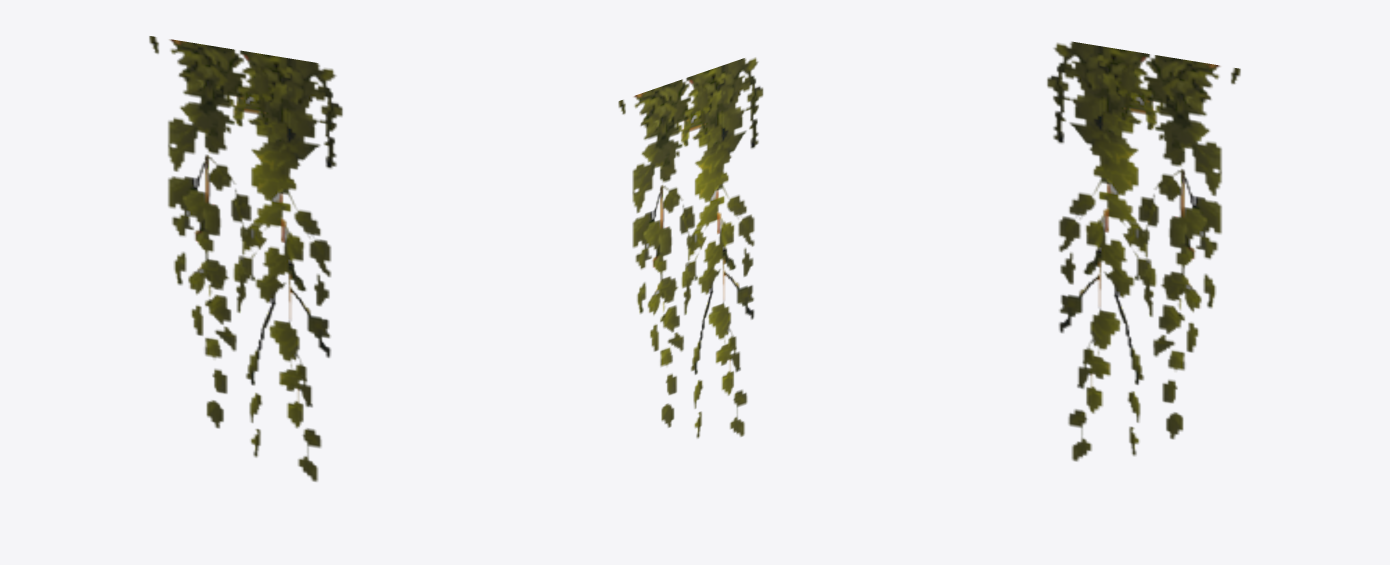
Rendered from GH_1_Ivy_4.gltf.
3 renders of one model, left to right at view 1: azimuth 90°, elevation 25°; view 2: azimuth 150°, elevation 25°; view 3: azimuth 270°, elevation 25°, orthographic. The views are drawn at different scales.
Parts seen in each view (by area): view 1: GH_1_Ivy_4; view 2: GH_1_Ivy_4; view 3: GH_1_Ivy_4.
Boxes of the visible parts, x1=… form: GH_1_Ivy_4: x1=149, y1=36, x2=342, y2=481; GH_1_Ivy_4: x1=618, y1=57, x2=763, y2=438; GH_1_Ivy_4: x1=1047, y1=41, x2=1240, y2=461.
Size of the model in its own units: 0.8651 by 2.42 by 2.27.
1 material, 1 textured.
